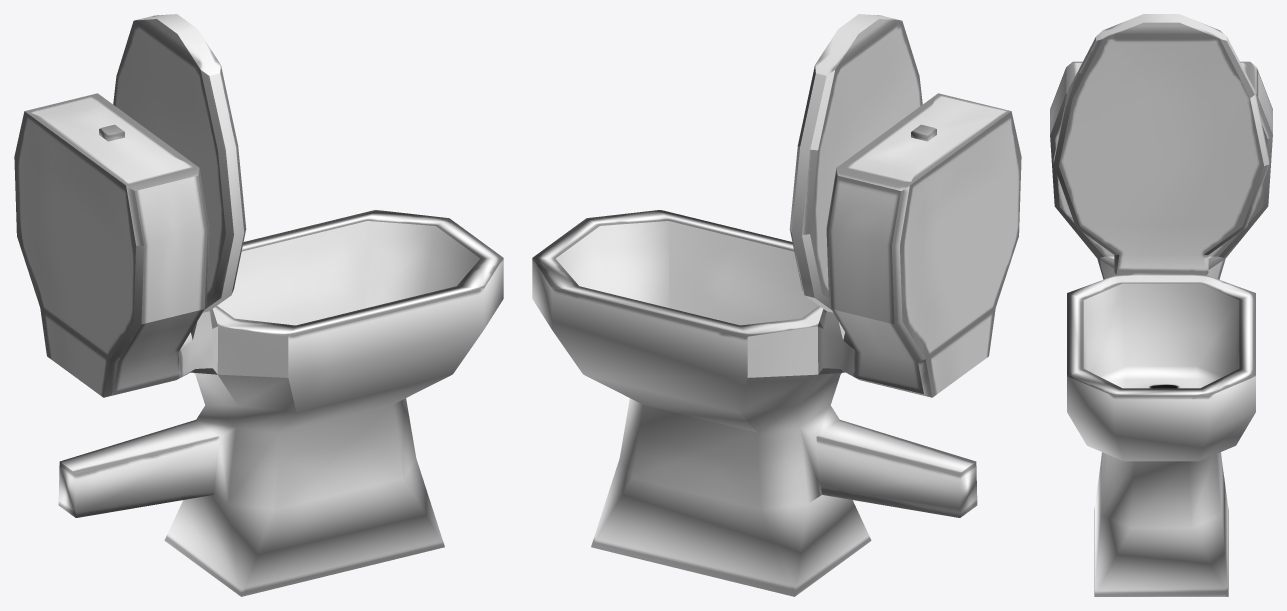
File: Toilet.fbx
The picture shows the model from 3 angles, left to right: view 1: azimuth 30°, elevation 25°; view 2: azimuth 150°, elevation 25°; view 3: azimuth 270°, elevation 25°; orthographic projection. The views are drawn at different scales.
Visible parts, largest first — view 1: Toilet; view 2: Toilet; view 3: Toilet.
Boxes of the visible parts, <box> form: Toilet: <box>14,14,503,596</box>; Toilet: <box>532,14,1021,596</box>; Toilet: <box>1050,14,1272,596</box>.
Size of the model in its own units: 8.48 by 10.91 by 4.58.
